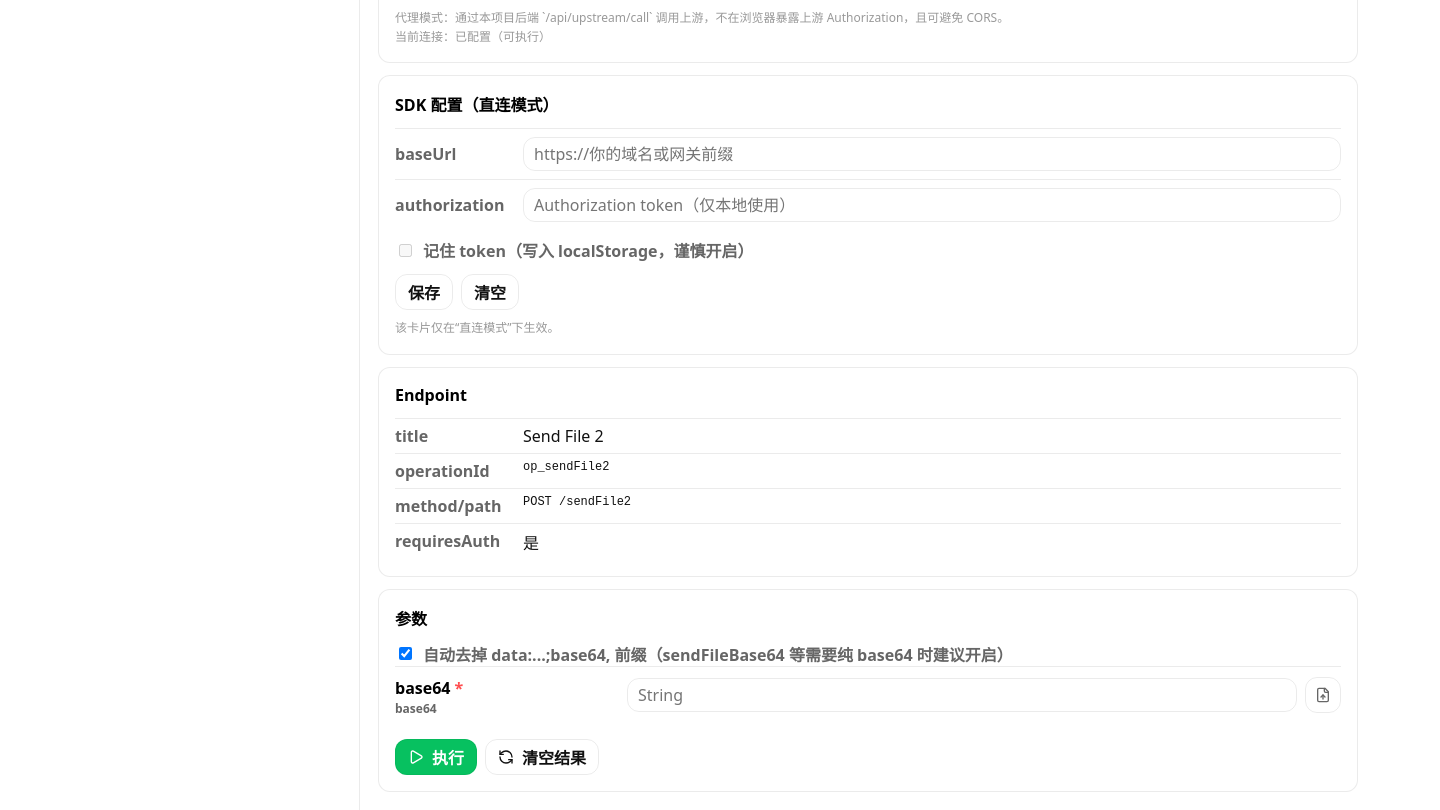
Test: SdkConsolePane › shows validation error for invalid base64 format
(page scrolled)
Note: Type invalid base64 (contains invalid characters)
Type "not-valid-base64!!!" into the field named "参数 base64". click: (962, 695)
box: [627,678,1297,712]
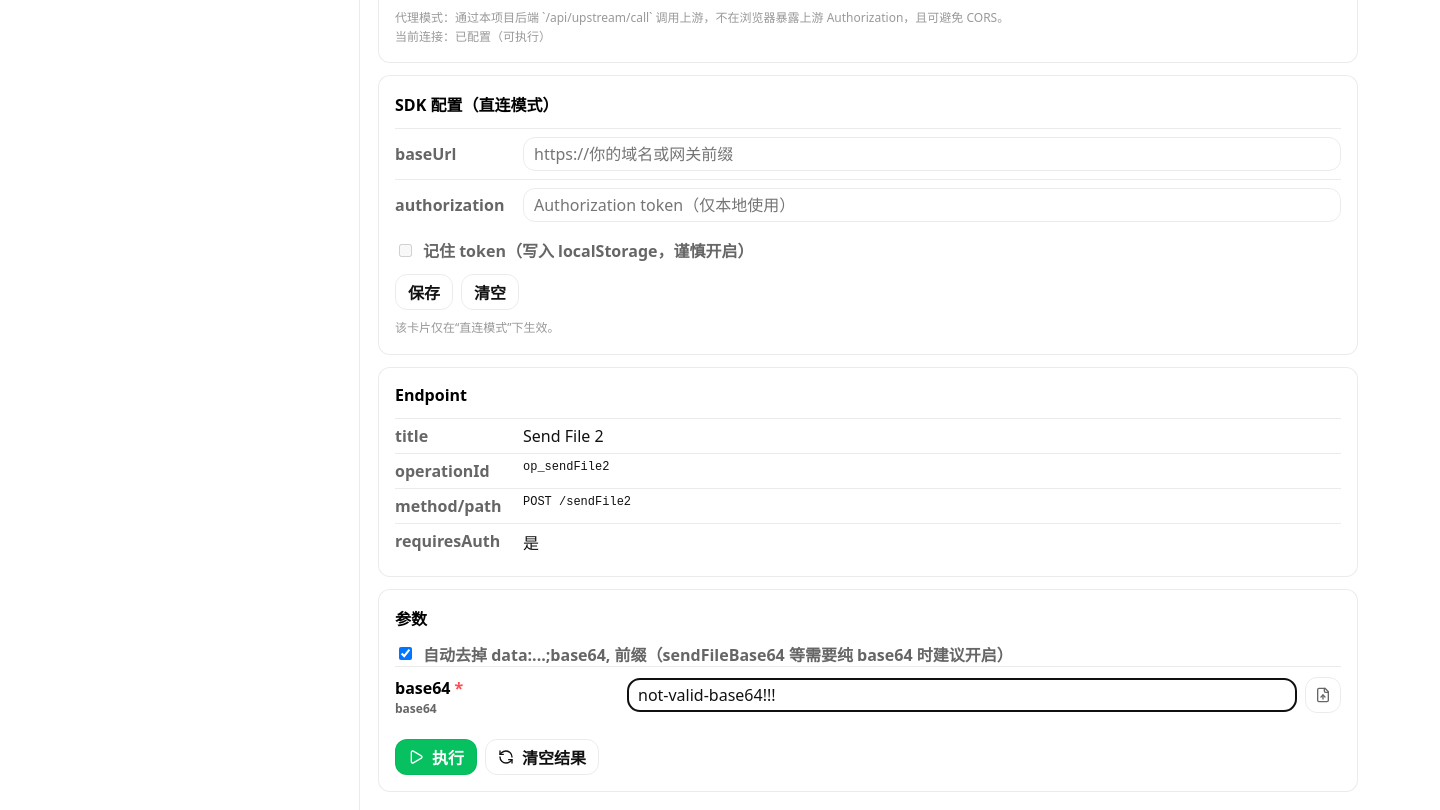
Note: Execute - use the first execute button in the right panel
Click the button "执行". click: (436, 757)
box: [395,739,477,775]
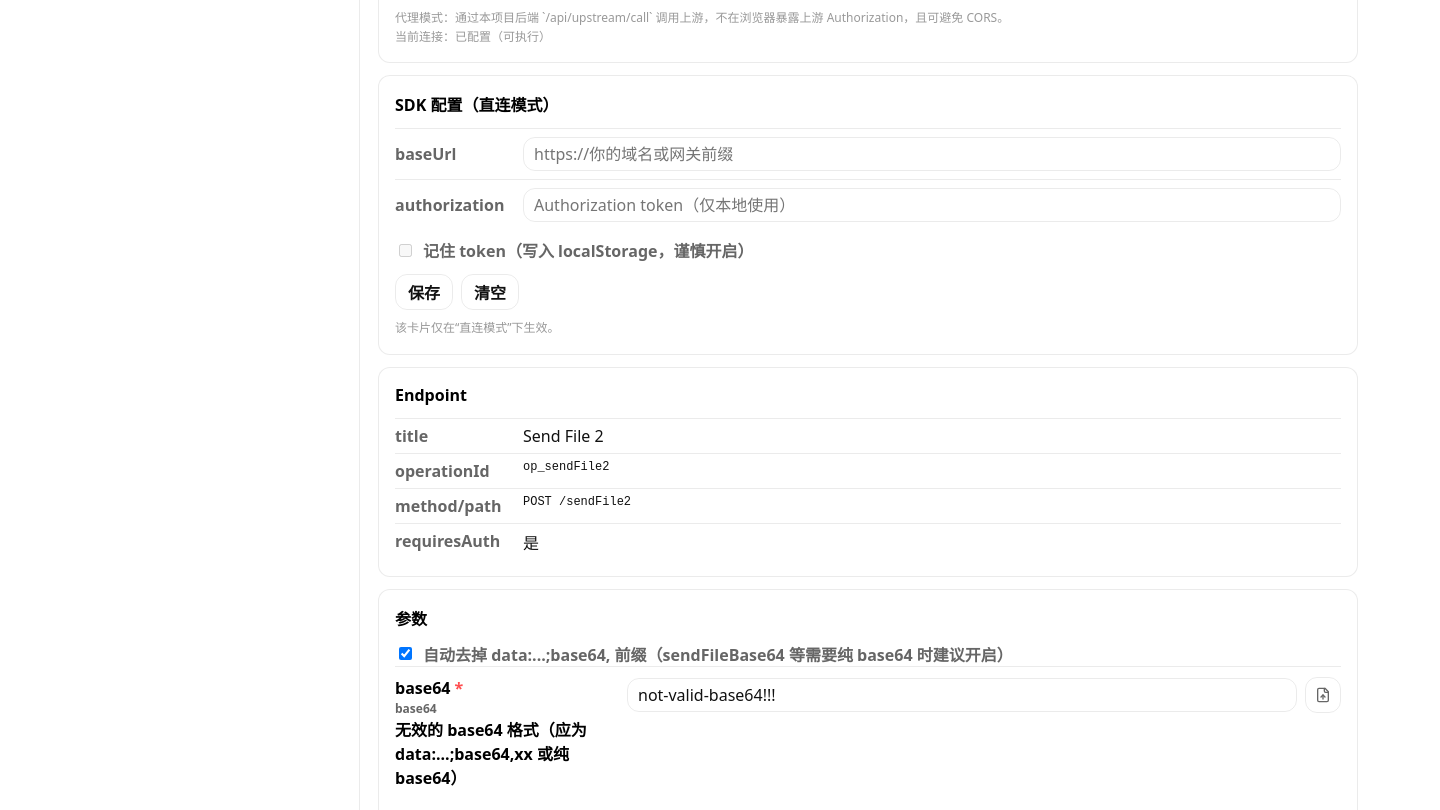
Expected: the text "无效的 base64 格式（应为 data:...;base64,xx 或纯 base64）" is shown, [395,717,615,789]
